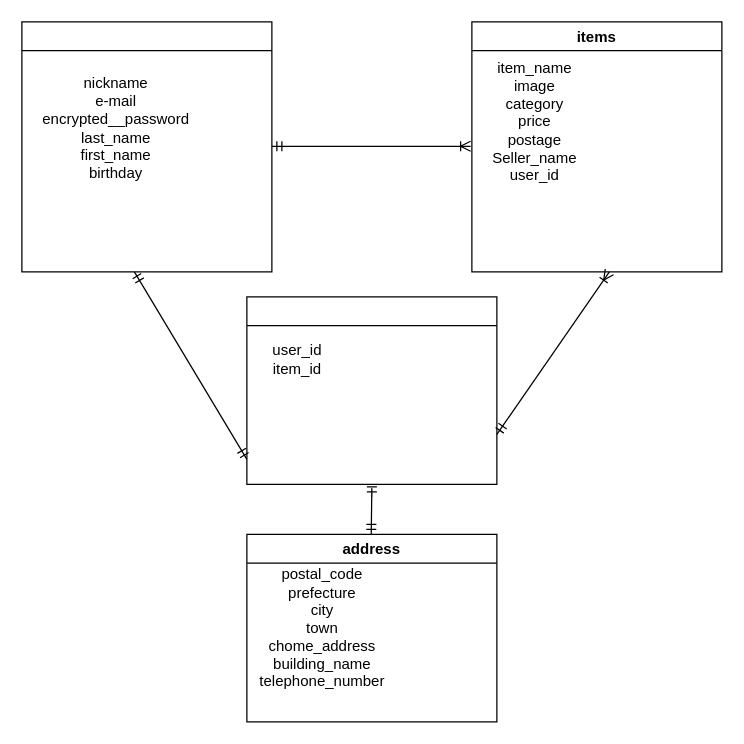
This 744x744 diagram has some shape labels left out. The shapes that lost their labels are listed below. From the top down, each one's box as (x1, y1, x2, y2) in pixels, then its label:
(21, 21, 272, 272): user
(246, 296, 497, 484): buyer
